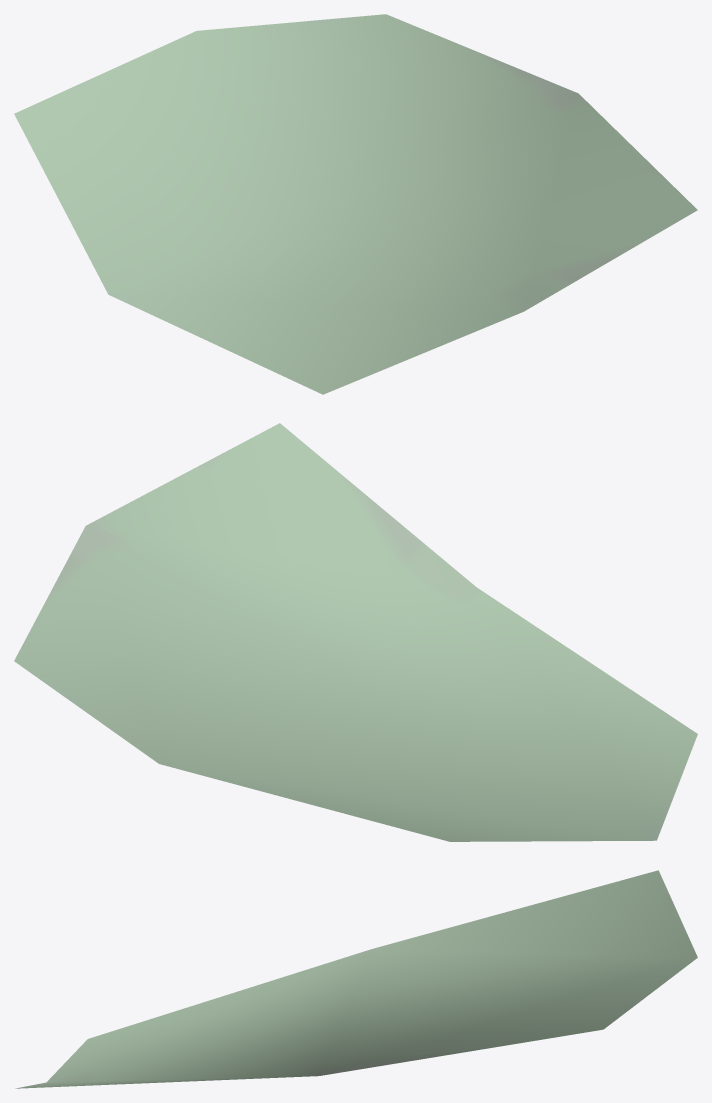
Rendered from TROLLHOLE02_HOLECAP64.fbx.
The picture shows the model from 3 angles, top to bottom: view 1: azimuth 30°, elevation 25°; view 2: azimuth 150°, elevation 25°; view 3: azimuth 270°, elevation 25°; orthographic projection. The views are drawn at different scales.
Parts seen in each view (by area): view 1: TROLLHOLE02_HOLECAP64; view 2: TROLLHOLE02_HOLECAP64; view 3: TROLLHOLE02_HOLECAP64.
Boxes of the visible parts, box(x1,y1,x2,y2) form: TROLLHOLE02_HOLECAP64: box(14, 14, 697, 394); TROLLHOLE02_HOLECAP64: box(14, 423, 697, 841); TROLLHOLE02_HOLECAP64: box(15, 870, 697, 1088).
Bounding box in the file's own units: 20718 × 6530 × 23707.
Materials: 1 (1 with a texture image).
